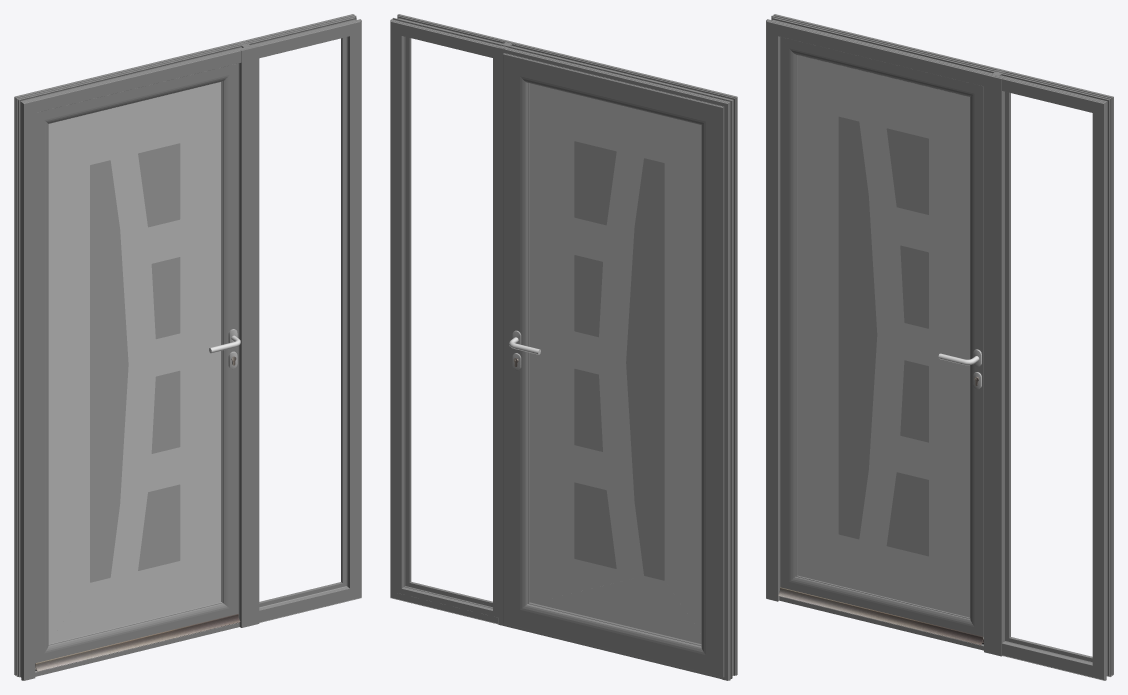
The picture shows the model from 3 angles, left to right: view 1: azimuth 30°, elevation 25°; view 2: azimuth 150°, elevation 25°; view 3: azimuth 330°, elevation 25°; orthographic projection.
Parts seen in each view (by area): view 1: fosco_25, aroFixo, transparente_25, aroMovel, montanteCentral, bite, borracha, escovas, rodaPe; view 2: fosco_25, aroMovel, transparente_25, aroFixo, bite, montanteCentral, borracha, rodaPe; view 3: fosco_25, aroFixo, transparente_25, aroMovel, montanteCentral, bite, escovas, borracha, rodaPe.
Boxes of the visible parts, <box> form: fosco_25: <box>48,82,221,643</box>; aroFixo: <box>14,14,361,680</box>; transparente_25: <box>90,143,180,582</box>; aroMovel: <box>35,63,238,663</box>; montanteCentral: <box>238,42,259,627</box>; bite: <box>259,37,346,607</box>; borracha: <box>259,37,345,606</box>; escovas: <box>35,614,240,671</box>; rodaPe: <box>35,622,239,676</box>; fosco_25: <box>529,83,701,644</box>; aroMovel: <box>503,53,724,677</box>; transparente_25: <box>574,141,664,580</box>; aroFixo: <box>390,14,737,680</box>; bite: <box>396,29,498,617</box>; montanteCentral: <box>498,40,518,626</box>; borracha: <box>404,36,492,608</box>; rodaPe: <box>505,624,721,679</box>; fosco_25: <box>797,55,969,617</box>; aroFixo: <box>766,14,1113,680</box>; transparente_25: <box>838,116,928,556</box>; aroMovel: <box>780,37,983,638</box>; montanteCentral: <box>984,70,1004,656</box>; bite: <box>1005,91,1092,661</box>; escovas: <box>778,587,983,645</box>; borracha: <box>1006,92,1092,660</box>; rodaPe: <box>779,596,983,650</box>.
Bounding box in the file's own units: 1320 × 2149 × 185.
10 materials, 4 textured.
